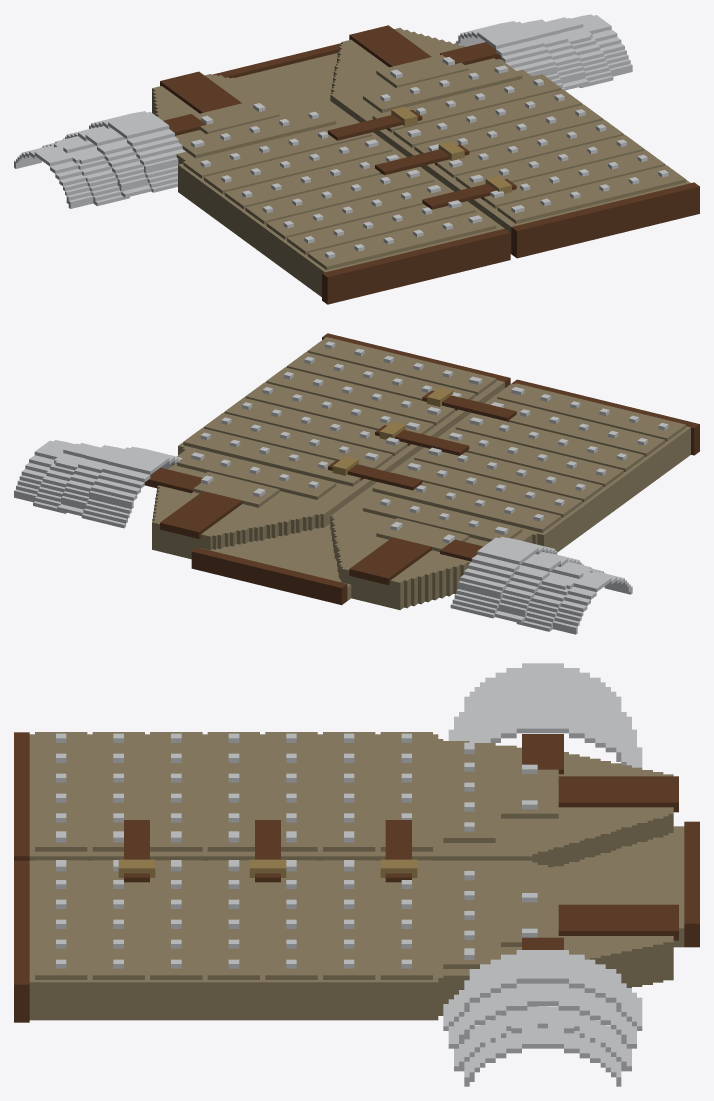
File: lc_brigandine_shoulders.glb
3 views of the same model, one above another, from view 1: azimuth 30°, elevation 25°; view 2: azimuth 150°, elevation 25°; view 3: azimuth 270°, elevation 25° (orthographic). The views are drawn at different scales.
Visible parts, largest first — view 1: lc_brigandine_shoulders:compound; view 2: lc_brigandine_shoulders:compound; view 3: lc_brigandine_shoulders:compound.
Boxes of the visible parts, <box> form: lc_brigandine_shoulders:compound: <box>14,14,699,304</box>; lc_brigandine_shoulders:compound: <box>14,333,699,634</box>; lc_brigandine_shoulders:compound: <box>14,663,699,1086</box>.
Bounding box in the file's own units: 0.688 × 0.048 × 0.524.
